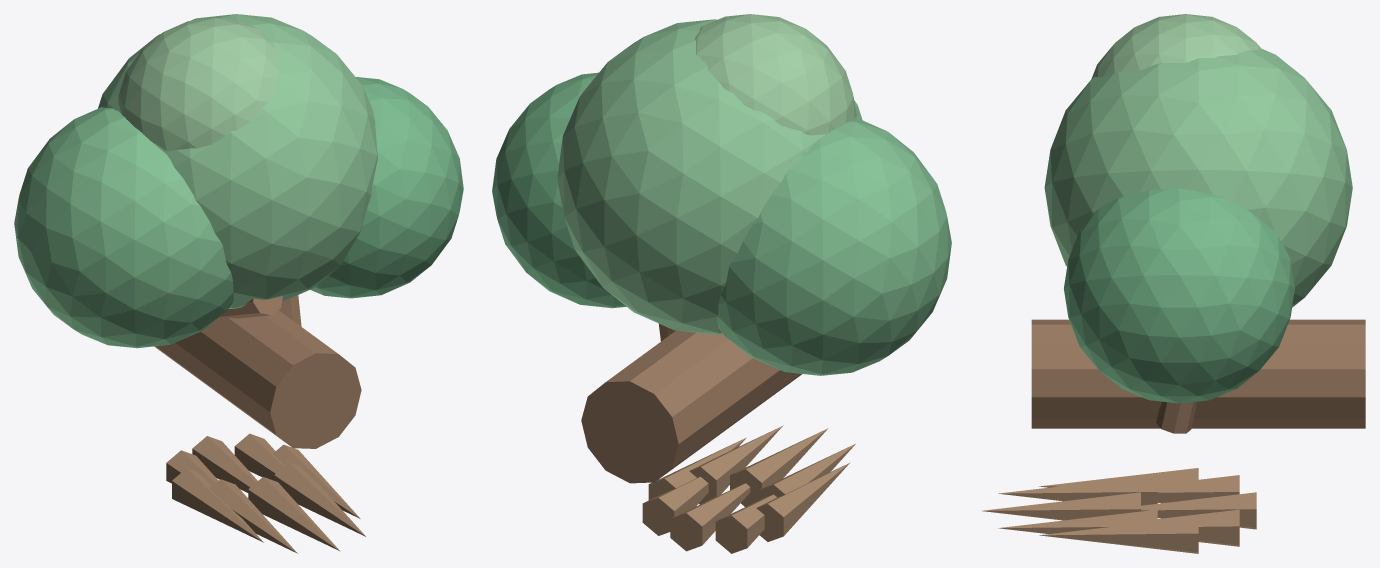
The model's file is great_tree.glb.
3 renders of one model, left to right at view 1: azimuth 30°, elevation 25°; view 2: azimuth 150°, elevation 25°; view 3: azimuth 270°, elevation 25°, orthographic. The views are drawn at different scales.
Visible parts, largest first — view 1: leaf0, leaf1, leaf2, trunk, leaf3, root2, root4, root1, root6, root3, root7, root0 (+2 smaller); view 2: leaf1, leaf0, trunk, leaf2, leaf3, root6, root4, root2, root7, root1, root5, root3 (+1 smaller); view 3: leaf1, leaf2, trunk, leaf3, root0, root2, root3, root6, root1, root5, root7, branch0 (+1 smaller).
Part boxes in pixels (<box>): leaf0: <box>14,107,233,348</box>; leaf1: <box>98,14,377,308</box>; leaf2: <box>310,77,463,298</box>; trunk: <box>154,310,361,448</box>; leaf3: <box>118,18,280,151</box>; root2: <box>248,477,340,551</box>; root4: <box>172,468,263,542</box>; root1: <box>274,462,365,536</box>; root6: <box>192,436,257,492</box>; root3: <box>210,479,297,553</box>; root7: <box>234,433,284,480</box>; root0: <box>273,444,360,518</box>; leaf1: <box>557,19,862,334</box>; leaf0: <box>717,118,951,375</box>; trunk: <box>581,330,801,483</box>; leaf2: <box>492,72,626,308</box>; leaf3: <box>695,14,856,135</box>; root6: <box>670,483,750,551</box>; root4: <box>756,462,850,541</box>; root2: <box>730,428,828,506</box>; root7: <box>642,476,708,535</box>; root1: <box>689,425,783,504</box>; root5: <box>715,494,776,553</box>; root3: <box>758,443,855,500</box>; leaf1: <box>1044,49,1352,307</box>; leaf2: <box>1064,188,1294,403</box>; trunk: <box>1031,319,1365,428</box>; leaf3: <box>1091,14,1261,78</box>; root0: <box>1039,516,1198,553</box>; root2: <box>981,492,1140,520</box>; root3: <box>998,475,1157,505</box>; root6: <box>1141,492,1256,529</box>; root1: <box>998,509,1157,533</box>; root5: <box>1157,475,1239,503</box>; root7: <box>1157,509,1239,546</box>; branch0: <box>1156,401,1196,433</box>.
Bounding box in the file's own units: 7.6 × 8.47 × 6.
